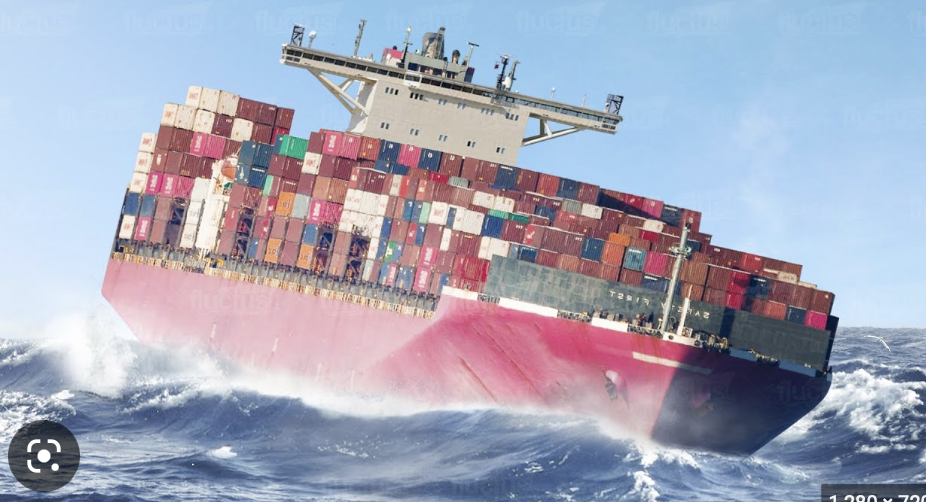ship: (100, 22, 854, 452)
